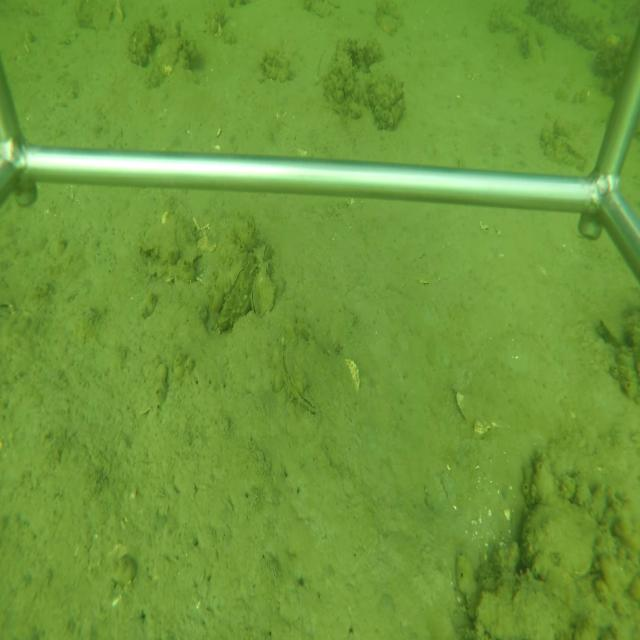Oyster-Closed: (277, 321, 361, 417), (208, 249, 254, 333), (249, 261, 278, 320)
Oyster-Indeterminate: (523, 495, 608, 579)
